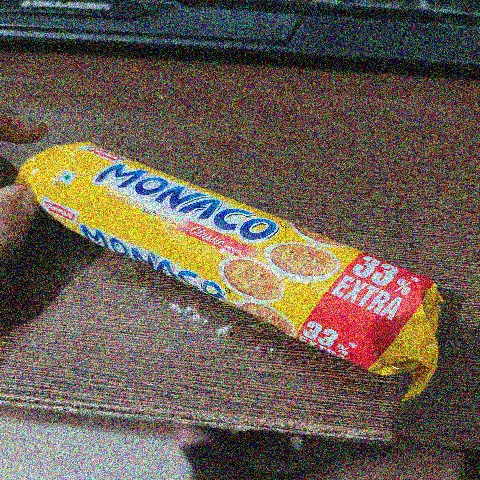monaco: (17, 105, 464, 420)
